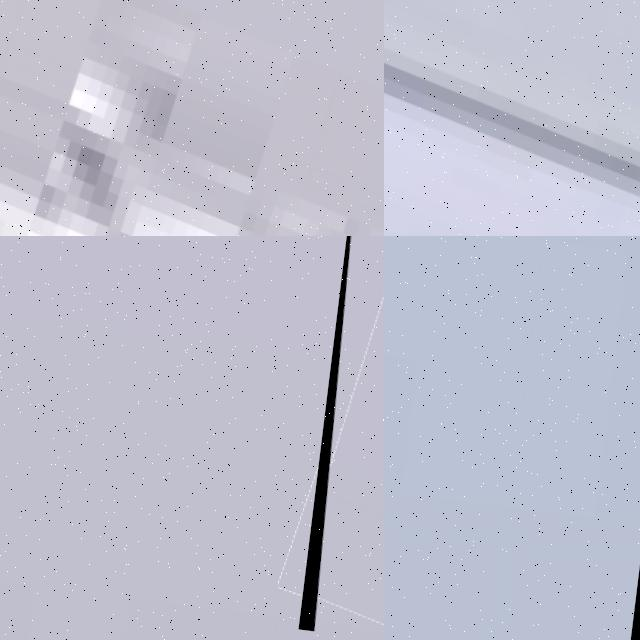drone: (0, 0, 384, 236), (384, 0, 640, 236), (297, 236, 384, 640)
